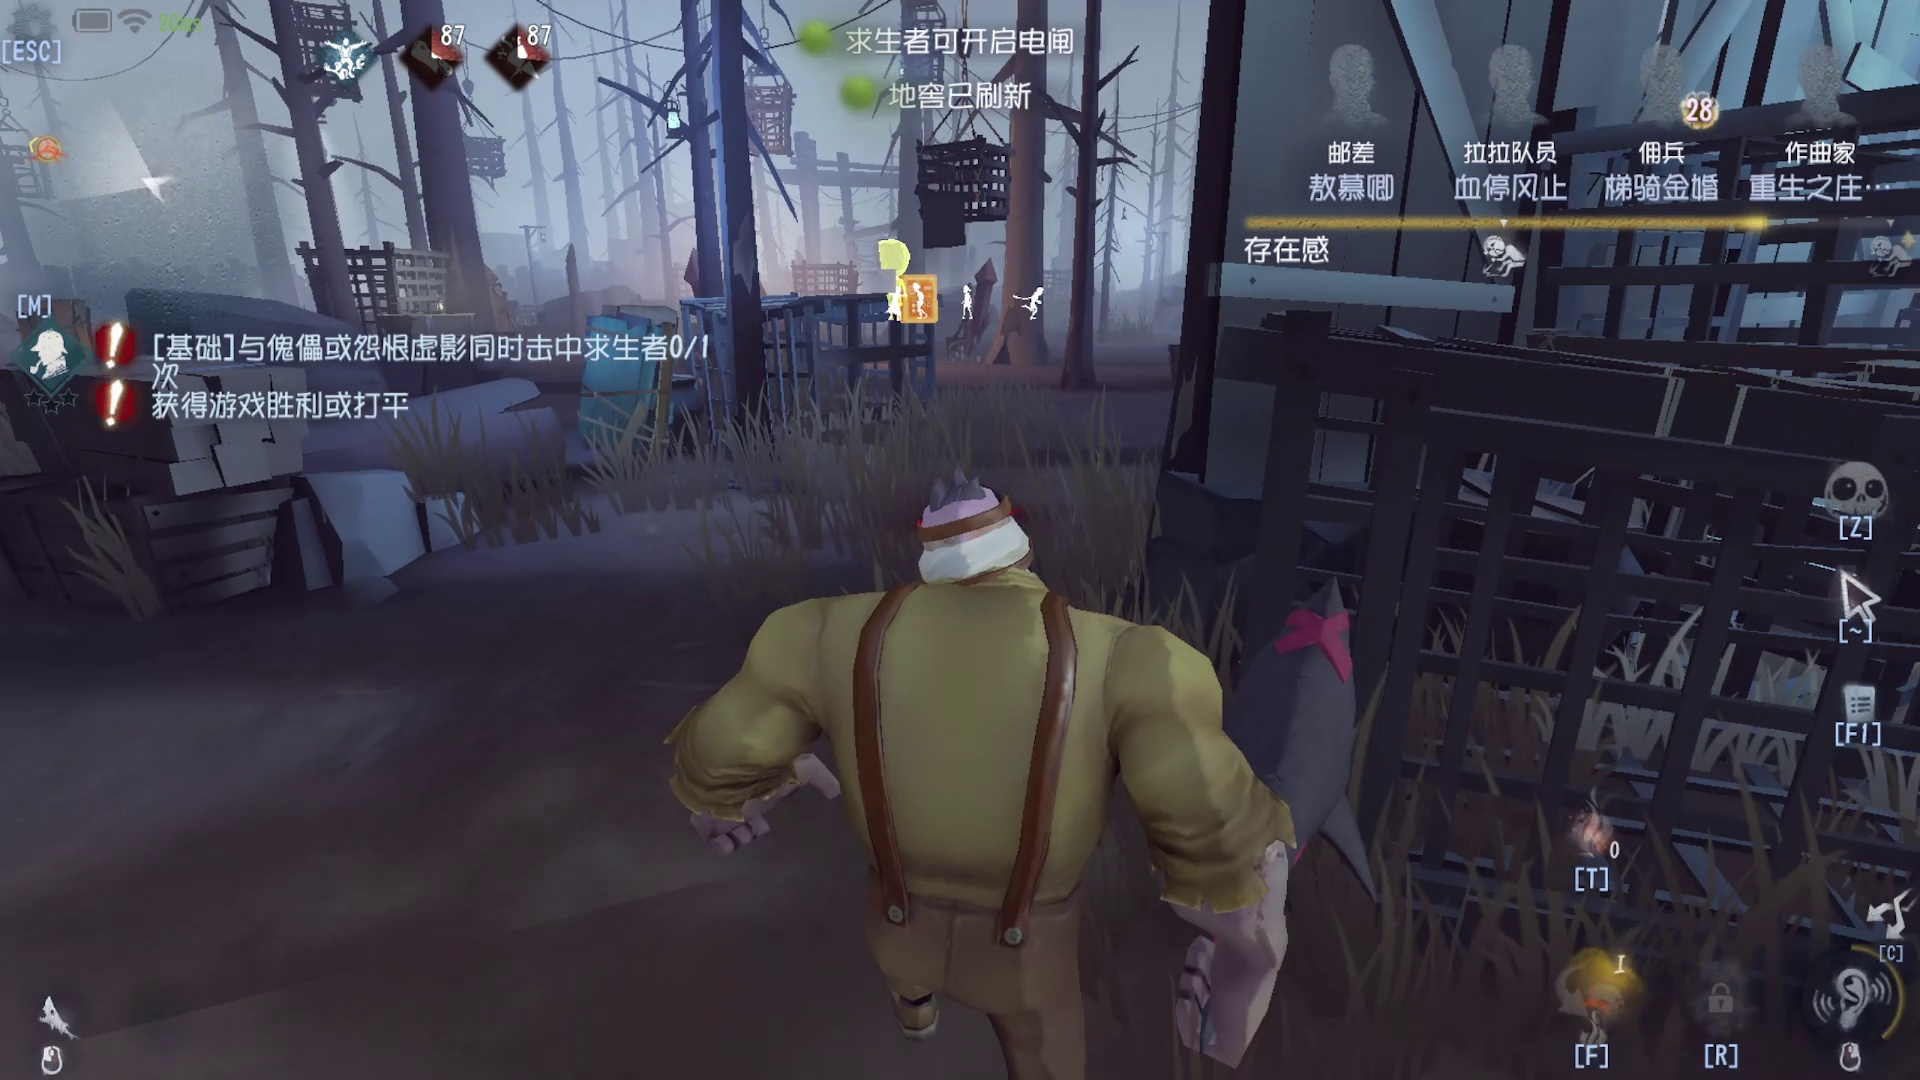木板: (550, 299, 709, 489)
狂欢之椅: (928, 265, 1005, 364)
设置: (1, 1, 80, 66)
